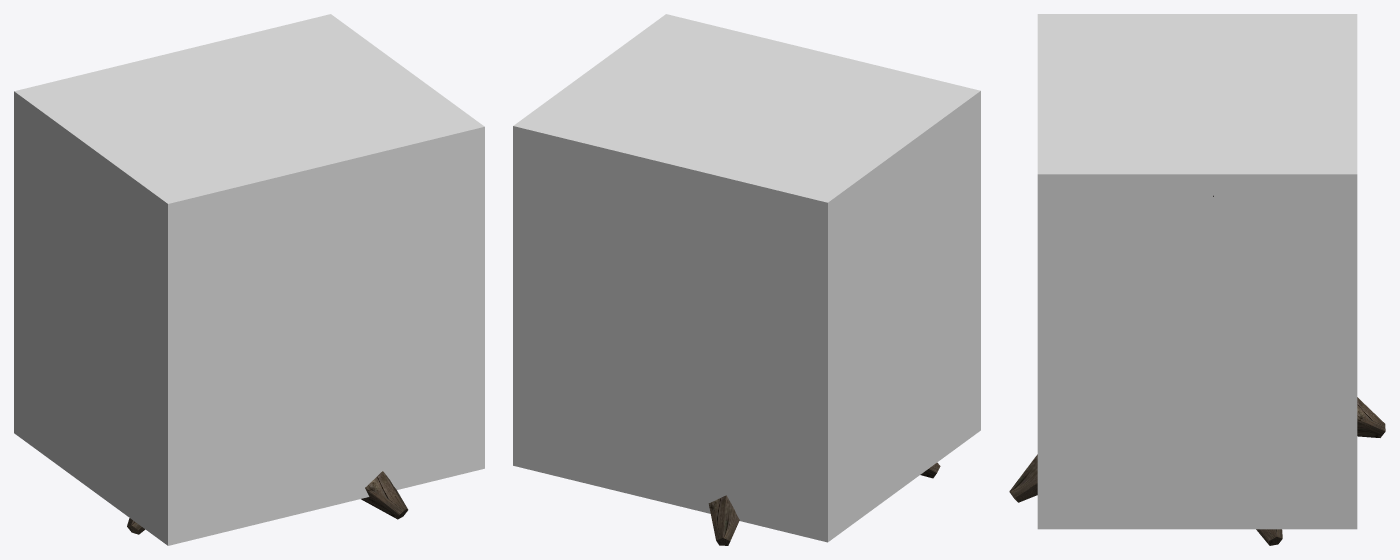
The model's file is anvil_stump_v1_lite.glb.
3 views of the same model, side by side, from view 1: azimuth 30°, elevation 25°; view 2: azimuth 150°, elevation 25°; view 3: azimuth 270°, elevation 25° (orthographic). The views are drawn at different scales.
Visible parts, largest first — view 1: col_anvil, anvil_stump; view 2: col_anvil, anvil_stump; view 3: col_anvil, anvil_stump.
Part boxes in pixels (<box>): col_anvil: <box>14,14,484,545</box>; anvil_stump: <box>127,471,408,534</box>; col_anvil: <box>513,14,980,542</box>; anvil_stump: <box>708,462,940,545</box>; col_anvil: <box>1037,14,1357,529</box>; anvil_stump: <box>1009,195,1385,545</box>.
Bounding box in the file's own units: 0.9504 × 1.03 × 0.9416.
2 materials, 2 textured.
